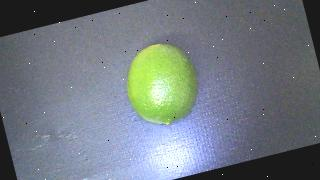EXPORTACION: (118, 37, 206, 132)
